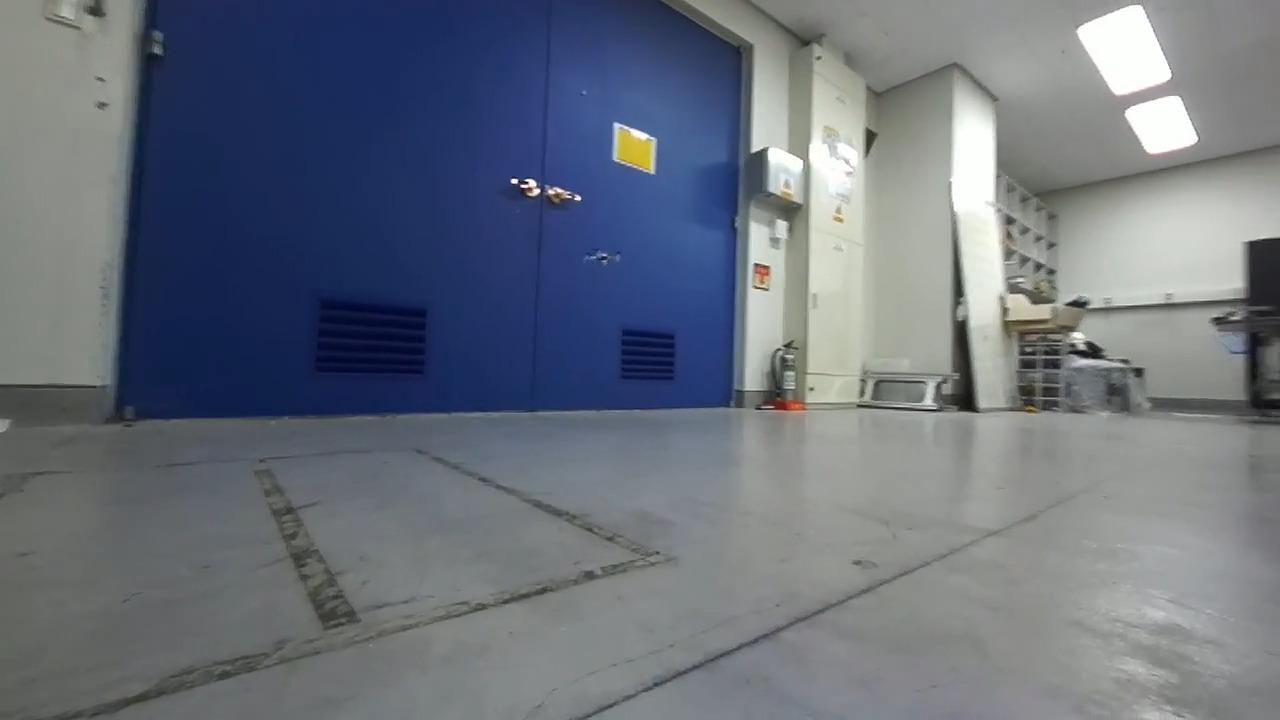crazyflie: (584, 246, 628, 270)
